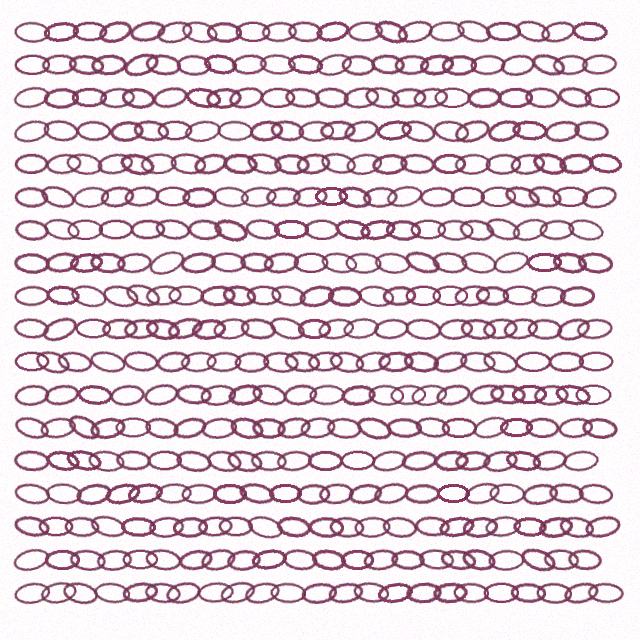chain: (64, 410, 104, 445), (146, 246, 188, 279), (39, 313, 80, 345), (371, 16, 411, 47), (454, 16, 494, 47), (121, 49, 161, 80), (483, 214, 523, 245), (402, 247, 442, 278), (123, 280, 163, 311), (267, 313, 307, 344), (518, 544, 558, 575), (452, 116, 492, 146), (502, 182, 542, 212), (354, 413, 394, 443), (245, 512, 285, 542), (11, 545, 52, 574), (529, 50, 568, 80), (38, 182, 77, 212), (211, 215, 250, 245), (554, 314, 593, 344), (33, 347, 72, 377), (12, 413, 51, 443), (395, 17, 435, 46), (513, 17, 553, 46), (314, 50, 354, 79), (510, 215, 550, 244), (491, 248, 531, 277), (165, 314, 205, 343), (471, 413, 511, 442), (462, 479, 502, 508), (88, 512, 128, 541), (218, 578, 258, 607), (96, 17, 135, 46), (485, 116, 524, 145), (530, 149, 569, 178), (155, 18, 194, 46), (180, 18, 219, 46), (12, 117, 51, 145), (245, 150, 284, 178), (580, 183, 619, 211), (566, 216, 605, 244), (69, 282, 108, 310), (101, 282, 140, 310), (297, 282, 336, 310), (88, 348, 127, 376), (431, 348, 470, 376), (481, 348, 520, 376), (434, 381, 473, 409), (225, 447, 264, 475), (103, 480, 142, 508), (61, 579, 100, 607), (243, 579, 282, 607), (562, 579, 601, 607), (539, 18, 577, 46), (342, 117, 380, 145), (399, 117, 437, 145), (118, 150, 156, 178), (192, 150, 230, 178), (336, 183, 374, 211), (250, 381, 288, 409), (171, 414, 209, 442), (228, 414, 266, 442), (128, 18, 167, 45), (12, 84, 51, 111), (151, 84, 190, 111), (363, 84, 402, 111), (319, 150, 358, 177), (385, 183, 424, 210), (42, 216, 81, 243), (459, 249, 498, 276), (64, 447, 103, 474), (237, 480, 276, 507), (12, 513, 51, 540), (583, 513, 622, 540), (39, 579, 78, 606), (164, 579, 203, 606), (183, 118, 223, 144), (314, 18, 352, 45), (227, 84, 265, 111), (556, 84, 594, 111), (526, 183, 564, 210), (142, 381, 180, 408), (226, 381, 264, 408), (275, 414, 313, 441), (372, 480, 410, 507), (199, 546, 237, 573), (460, 546, 498, 573), (65, 151, 104, 177), (333, 217, 372, 243), (358, 217, 397, 243), (269, 283, 308, 309), (553, 382, 592, 408), (88, 415, 127, 441), (174, 448, 213, 474), (370, 448, 409, 474), (481, 448, 520, 474), (74, 481, 113, 507), (437, 514, 476, 540), (184, 85, 222, 111), (432, 118, 470, 144), (543, 118, 581, 144), (96, 151, 134, 177), (345, 151, 383, 177), (458, 217, 496, 243), (320, 250, 358, 276), (357, 283, 395, 309), (317, 316, 355, 342), (328, 349, 366, 375), (354, 349, 392, 375), (43, 382, 81, 408), (410, 382, 448, 408), (39, 415, 77, 441), (143, 415, 181, 441), (44, 448, 82, 474), (205, 448, 243, 474), (504, 448, 542, 474), (13, 481, 51, 507), (521, 481, 559, 507), (177, 547, 215, 573), (439, 547, 477, 573), (13, 580, 51, 606), (327, 580, 365, 606), (376, 580, 414, 606), (212, 316, 251, 341), (499, 52, 536, 78), (144, 316, 181, 342), (56, 349, 93, 375), (347, 481, 384, 507), (537, 514, 574, 540), (558, 514, 595, 540), (144, 52, 182, 77), (286, 52, 324, 77), (342, 85, 380, 110), (42, 118, 80, 143), (132, 118, 170, 143), (375, 118, 413, 143), (169, 151, 207, 176), (123, 184, 161, 209), (179, 250, 217, 275), (262, 250, 300, 275), (431, 250, 469, 275), (576, 250, 614, 275), (453, 283, 491, 308), (239, 316, 277, 341), (342, 316, 380, 341), (122, 349, 160, 374), (283, 349, 321, 374), (402, 349, 440, 374), (468, 382, 506, 407), (299, 415, 337, 440), (531, 448, 569, 473), (126, 481, 164, 506), (484, 514, 522, 539), (144, 547, 182, 572), (250, 547, 288, 572), (281, 547, 319, 572), (362, 547, 400, 572), (121, 580, 159, 605), (352, 580, 390, 605), (87, 449, 126, 473), (202, 52, 239, 77), (418, 52, 455, 77), (248, 118, 285, 143), (269, 118, 306, 143), (295, 151, 332, 176), (587, 151, 624, 176), (99, 184, 136, 209), (154, 217, 191, 242), (244, 217, 281, 242), (44, 250, 81, 275), (551, 250, 588, 275), (221, 283, 258, 308), (502, 316, 539, 341), (155, 349, 192, 374), (282, 382, 319, 407), (414, 415, 451, 440), (275, 514, 312, 539), (310, 547, 347, 572), (42, 20, 80, 44), (67, 53, 105, 77), (45, 152, 83, 176), (72, 185, 110, 209), (404, 317, 442, 341), (459, 317, 497, 341), (13, 383, 51, 407), (199, 383, 237, 407), (200, 416, 238, 440), (400, 449, 438, 473), (461, 515, 499, 539), (93, 581, 131, 605), (300, 581, 338, 605), (99, 86, 136, 110), (120, 86, 157, 110), (205, 86, 242, 110), (284, 86, 321, 110), (412, 86, 449, 110), (573, 119, 610, 143), (371, 152, 408, 176), (399, 152, 436, 176), (509, 152, 546, 176), (212, 185, 249, 209), (240, 185, 277, 209), (68, 251, 105, 275), (116, 251, 153, 275), (374, 251, 411, 275), (530, 284, 567, 308), (123, 317, 160, 341), (190, 317, 227, 341), (373, 317, 410, 341), (437, 317, 474, 341), (576, 317, 613, 341), (180, 350, 217, 374), (262, 350, 299, 374), (459, 350, 496, 374), (76, 383, 113, 407), (109, 383, 146, 407), (326, 416, 363, 440), (557, 416, 594, 440), (581, 416, 618, 440), (276, 449, 313, 473), (454, 449, 491, 473), (562, 449, 599, 473), (577, 482, 614, 506), (148, 515, 185, 539), (381, 515, 418, 539), (69, 548, 106, 572), (96, 548, 133, 572), (144, 581, 181, 605), (109, 119, 145, 143), (292, 185, 328, 209), (14, 218, 50, 242), (340, 383, 376, 407), (226, 548, 262, 572), (347, 20, 384, 43), (428, 20, 465, 43), (571, 20, 608, 43), (41, 53, 78, 76), (90, 53, 127, 76), (231, 53, 268, 76), (259, 53, 296, 76), (581, 53, 618, 76), (524, 86, 561, 109), (319, 119, 356, 142), (511, 119, 548, 142), (140, 152, 177, 175), (89, 251, 126, 274), (210, 251, 247, 274), (145, 284, 182, 307), (199, 284, 236, 307), (13, 317, 50, 340), (101, 317, 138, 340), (307, 350, 344, 373), (377, 350, 414, 373), (175, 383, 212, 406), (489, 383, 526, 406), (13, 449, 50, 472), (115, 449, 152, 472), (45, 482, 82, 505), (155, 482, 192, 505), (548, 482, 585, 505), (414, 515, 451, 538), (418, 548, 455, 571), (543, 548, 580, 571), (197, 581, 234, 604), (405, 581, 442, 604), (287, 20, 323, 43), (370, 53, 406, 76), (314, 86, 350, 109), (466, 86, 502, 109), (222, 152, 258, 175), (558, 152, 594, 175), (187, 218, 223, 241), (239, 251, 275, 274), (45, 284, 81, 307), (482, 317, 518, 340), (433, 449, 469, 472), (318, 482, 354, 505), (197, 515, 233, 538), (567, 548, 603, 571), (432, 581, 468, 604), (261, 21, 298, 43), (552, 54, 589, 76), (273, 153, 310, 175), (454, 153, 491, 175), (265, 186, 302, 208), (419, 186, 456, 208), (437, 219, 474, 241), (13, 252, 50, 274), (345, 252, 382, 274), (250, 450, 287, 472), (354, 516, 391, 538), (488, 549, 525, 571), (587, 582, 624, 604), (14, 21, 50, 43), (206, 21, 242, 43), (176, 54, 212, 76), (394, 54, 430, 76), (441, 54, 477, 76), (470, 54, 506, 76), (43, 87, 79, 109), (391, 87, 427, 109), (217, 120, 253, 142), (298, 120, 334, 142), (485, 153, 521, 175), (181, 186, 217, 208), (362, 186, 398, 208), (385, 219, 421, 241), (539, 219, 575, 241), (14, 285, 50, 307), (559, 285, 595, 307), (527, 318, 563, 340), (206, 351, 242, 373), (234, 351, 270, 373), (309, 384, 345, 406), (368, 384, 404, 406), (390, 384, 426, 406), (533, 384, 569, 406), (251, 417, 287, 439), (386, 417, 422, 439), (181, 483, 217, 505), (404, 483, 440, 505), (64, 516, 100, 538), (120, 516, 156, 538), (172, 516, 208, 538), (308, 516, 344, 538), (329, 516, 365, 538), (512, 516, 548, 538), (390, 549, 426, 571), (270, 582, 306, 604), (453, 582, 489, 604), (510, 582, 546, 604), (536, 582, 572, 604), (434, 87, 471, 108), (575, 384, 612, 405), (341, 54, 376, 76), (76, 120, 111, 142), (14, 186, 49, 208), (327, 285, 362, 307), (382, 285, 417, 307), (475, 285, 510, 307), (296, 483, 331, 505), (72, 21, 108, 42), (235, 21, 271, 42), (485, 21, 521, 42), (14, 54, 50, 75), (71, 87, 107, 108), (260, 87, 296, 108), (497, 87, 533, 108), (584, 87, 620, 108), (157, 120, 193, 141), (155, 186, 191, 207), (480, 186, 516, 207), (552, 186, 588, 207), (67, 219, 103, 240), (98, 219, 134, 240), (130, 219, 166, 240), (273, 219, 309, 240), (304, 219, 340, 240), (410, 219, 446, 240), (293, 252, 329, 273), (526, 252, 562, 273), (168, 285, 204, 306), (246, 285, 282, 306), (405, 285, 441, 306), (432, 285, 468, 306), (502, 285, 538, 306), (75, 318, 111, 339), (14, 351, 50, 372), (515, 351, 551, 372), (548, 351, 584, 372), (578, 351, 614, 372), (511, 384, 547, 405), (115, 417, 151, 438), (441, 417, 477, 438), (307, 450, 343, 471), (340, 450, 376, 471), (489, 483, 525, 504), (38, 516, 74, 537), (44, 549, 80, 570), (122, 549, 158, 570), (483, 582, 519, 603), (14, 153, 49, 174), (432, 153, 467, 174), (314, 186, 349, 207), (450, 186, 485, 207), (297, 318, 332, 339), (499, 417, 534, 438), (525, 417, 560, 438), (147, 450, 182, 471), (212, 483, 247, 504), (268, 483, 303, 504), (436, 483, 471, 504), (218, 516, 253, 537), (340, 549, 375, 570)
